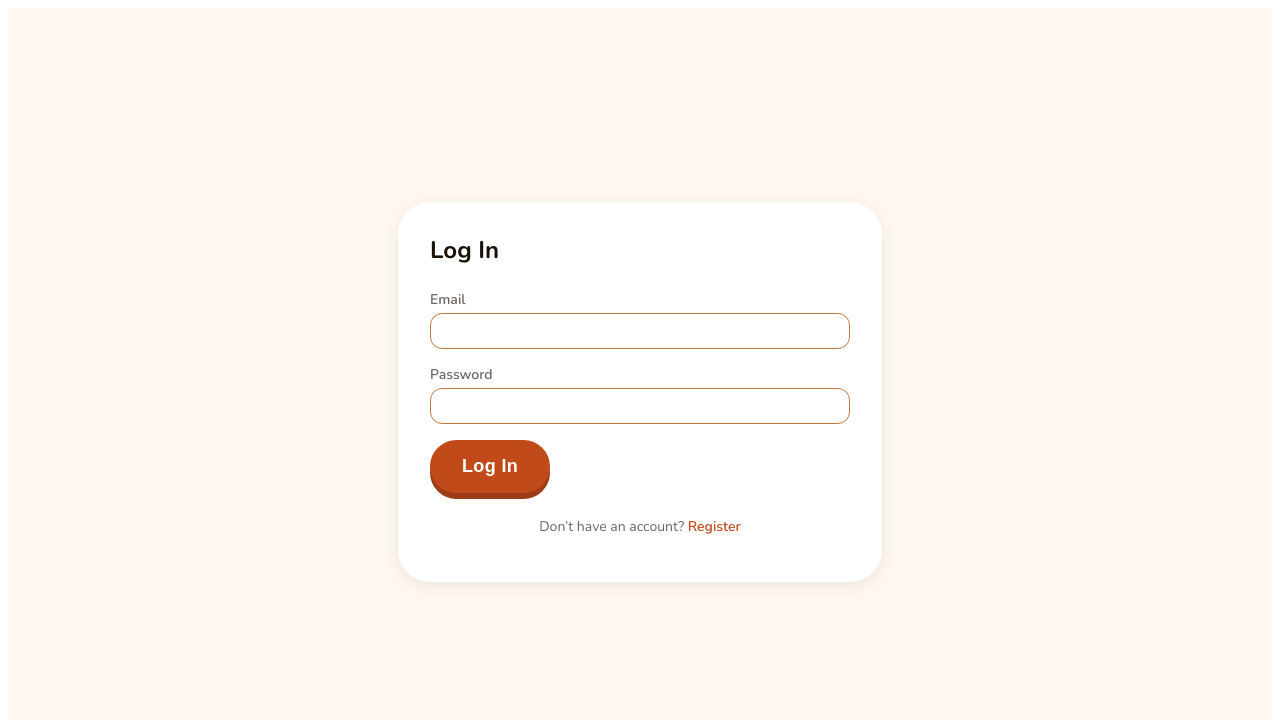
Test case: LoginPage › disables submit button while login is in progress
Type "a@b.com" into the field labelled "Email". click: (640, 331)
box: [430, 313, 850, 349]
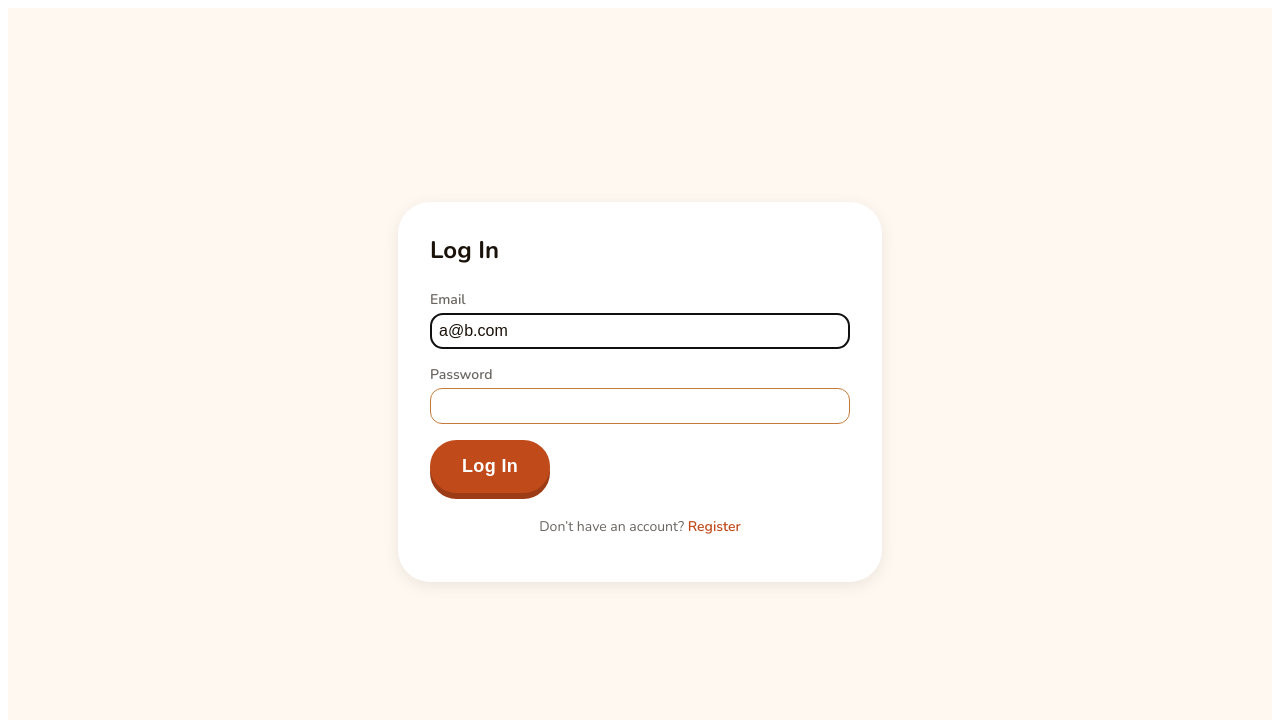
Type "pass" into the password field labelled "Password". click: (640, 406)
box: [430, 388, 850, 424]
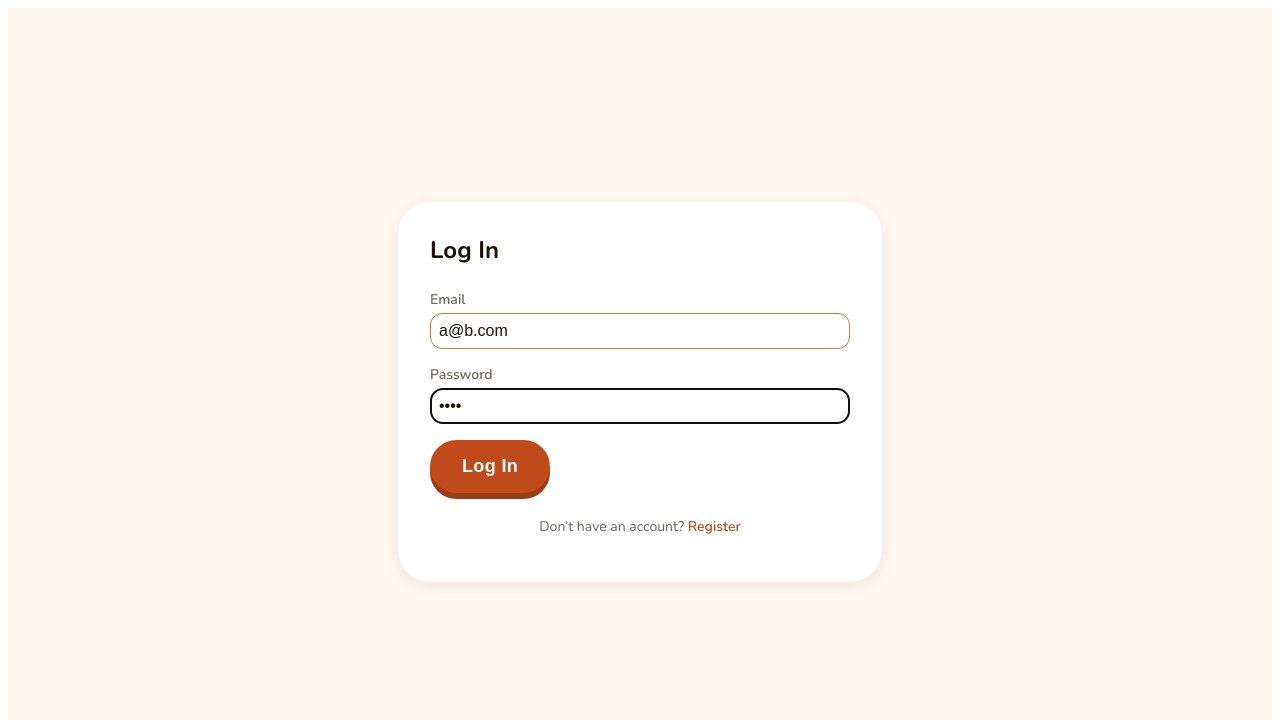
Click the button "Log In". click: (490, 466)
box: [430, 440, 550, 493]
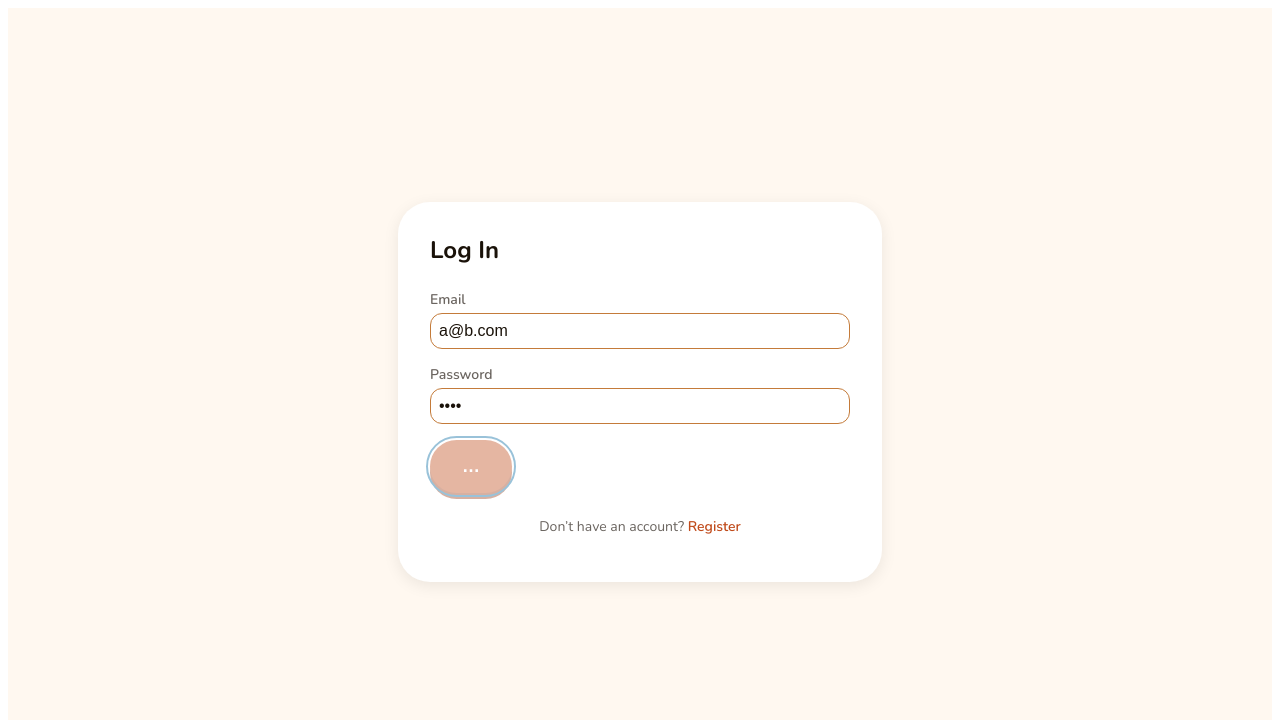
Result: the button "…" is disabled at [430, 440, 512, 493]
